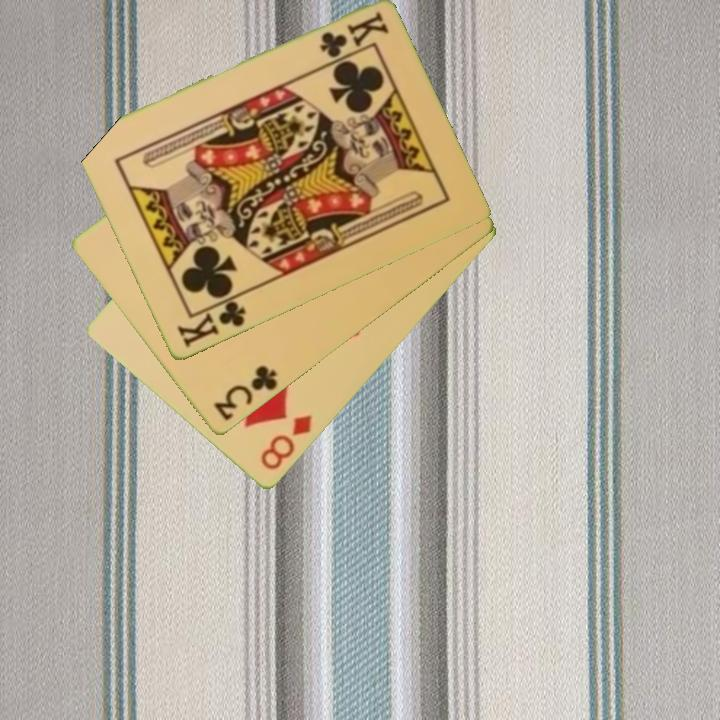3c: (210, 362, 281, 425)
8d: (257, 412, 315, 474)
Kc: (173, 291, 249, 352), (315, 8, 391, 61)
